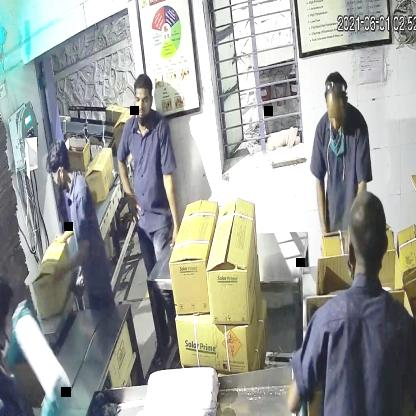no_goggles: (127, 92, 158, 110)
